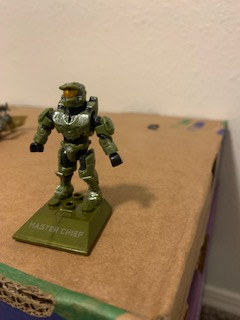chief: (29, 80, 122, 202)
spartan: (31, 82, 124, 204)
